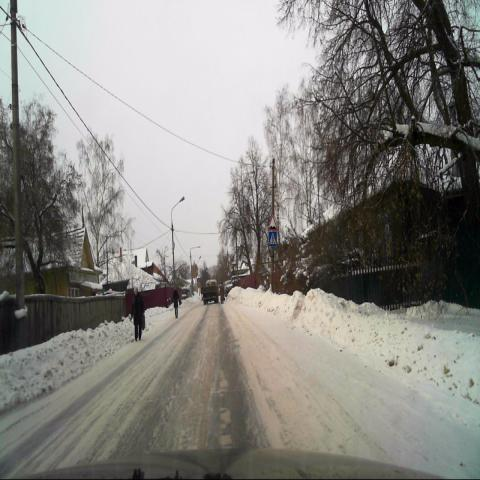1_16: (268, 216, 277, 232)
5_19_1: (269, 231, 277, 246)
